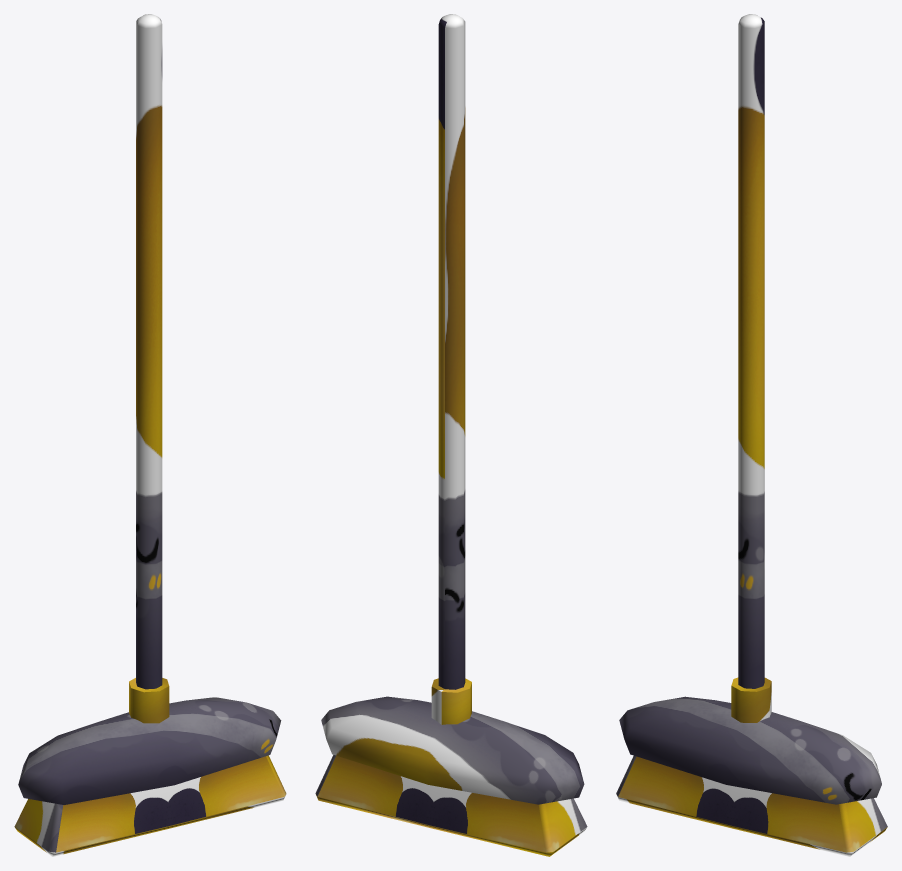
File: Broom.fbx
3 renders of one model, left to right at view 1: azimuth 30°, elevation 25°; view 2: azimuth 150°, elevation 25°; view 3: azimuth 330°, elevation 25°, orthographic.
Parts seen in each view (by area): view 1: pCube1; view 2: pCube1; view 3: pCube1.
Boxes of the visible parts, x1,y1,x2,y2 form: pCube1: (14,14,286,856); pCube1: (315,14,587,856); pCube1: (616,14,887,856).
Bounding box in the file's own units: 172 × 499 × 60.39.
1 material, 1 textured.
